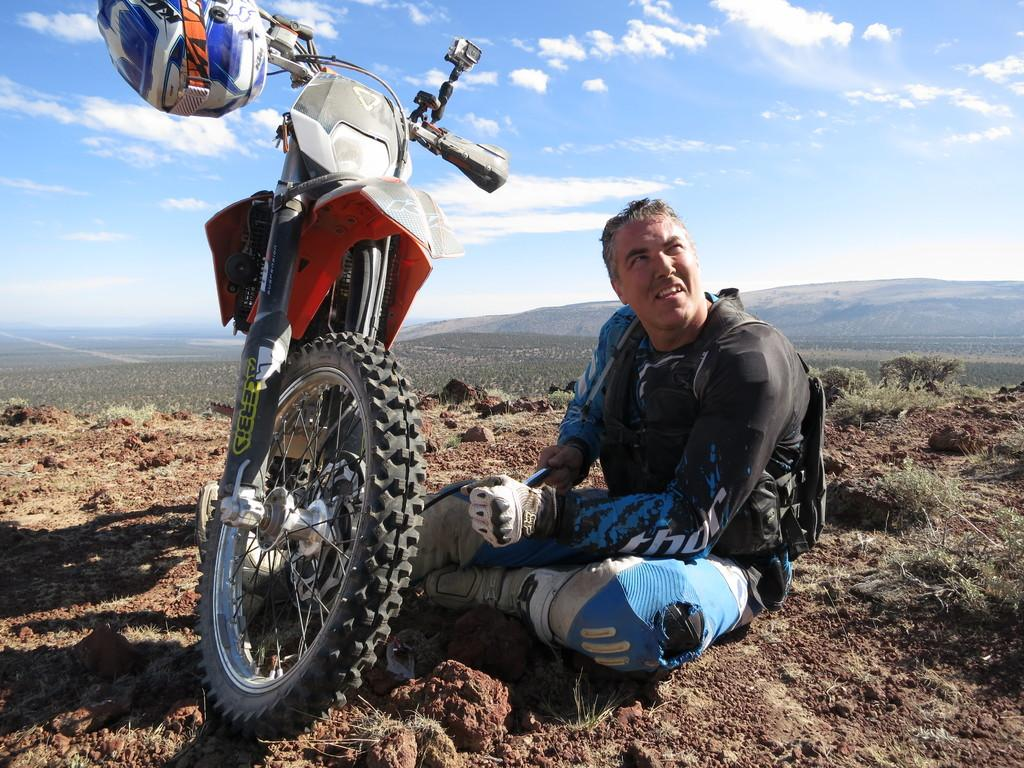Motorcycle: (161, 26, 490, 680)
